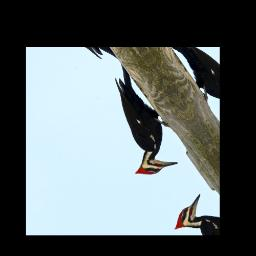Woodpecker: (81, 70, 190, 189)
